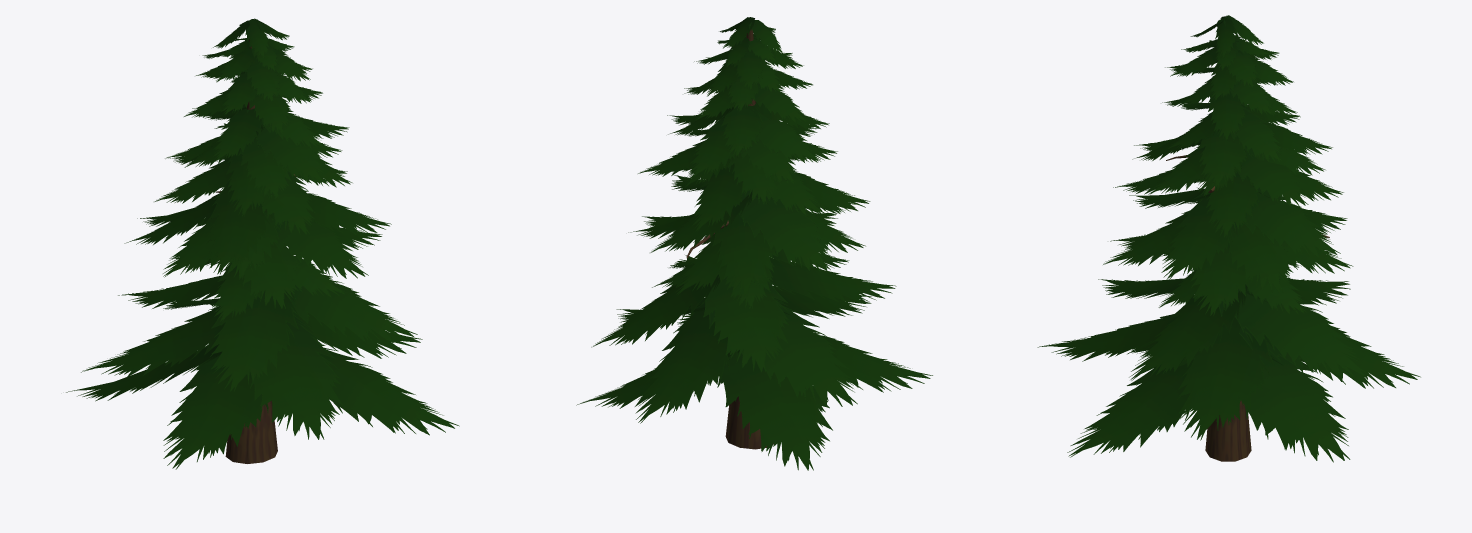
File: SM_Pine_Tree_4.glb
The picture shows the model from 3 angles, left to right: view 1: azimuth 30°, elevation 25°; view 2: azimuth 150°, elevation 25°; view 3: azimuth 270°, elevation 25°; orthographic projection. The views are drawn at different scales.
Parts seen in each view (by area): view 1: SM_Pine_Tree_4; view 2: SM_Pine_Tree_4; view 3: SM_Pine_Tree_4.
Part boxes in pixels (bbox=[...]): SM_Pine_Tree_4: bbox=[66, 18, 459, 469]; SM_Pine_Tree_4: bbox=[576, 17, 932, 470]; SM_Pine_Tree_4: bbox=[1037, 15, 1420, 462].
Size of the model in its own units: 1.54 by 1.65 by 1.61.
Materials: 2 (2 with a texture image).
